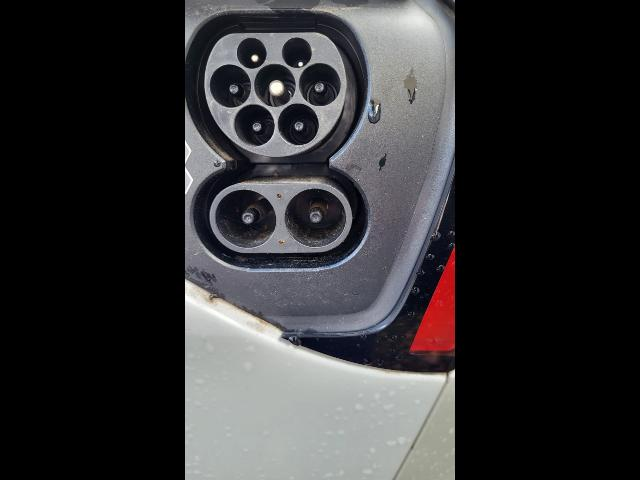inlet: (204, 32, 346, 157)
inlet-above-left: (237, 38, 266, 69)
inlet-above-right: (282, 38, 312, 68)
inlet-below-left: (234, 104, 275, 147)
inlet-below-right: (278, 103, 319, 146)
inlet-circle: (254, 64, 296, 107)
inlet-circle-left: (210, 64, 251, 108)
inlet-circle-right: (299, 63, 341, 106)
inlet-minus: (284, 188, 346, 247)
inlet-plus: (216, 189, 277, 248)
